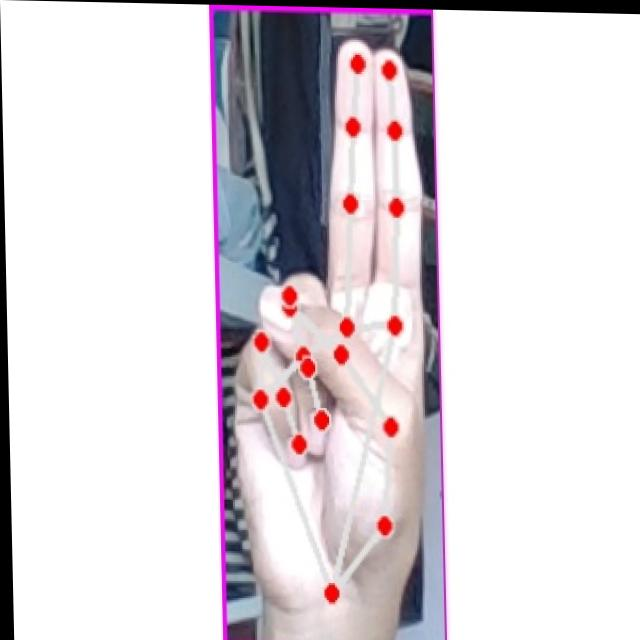U: (228, 30, 428, 612)
